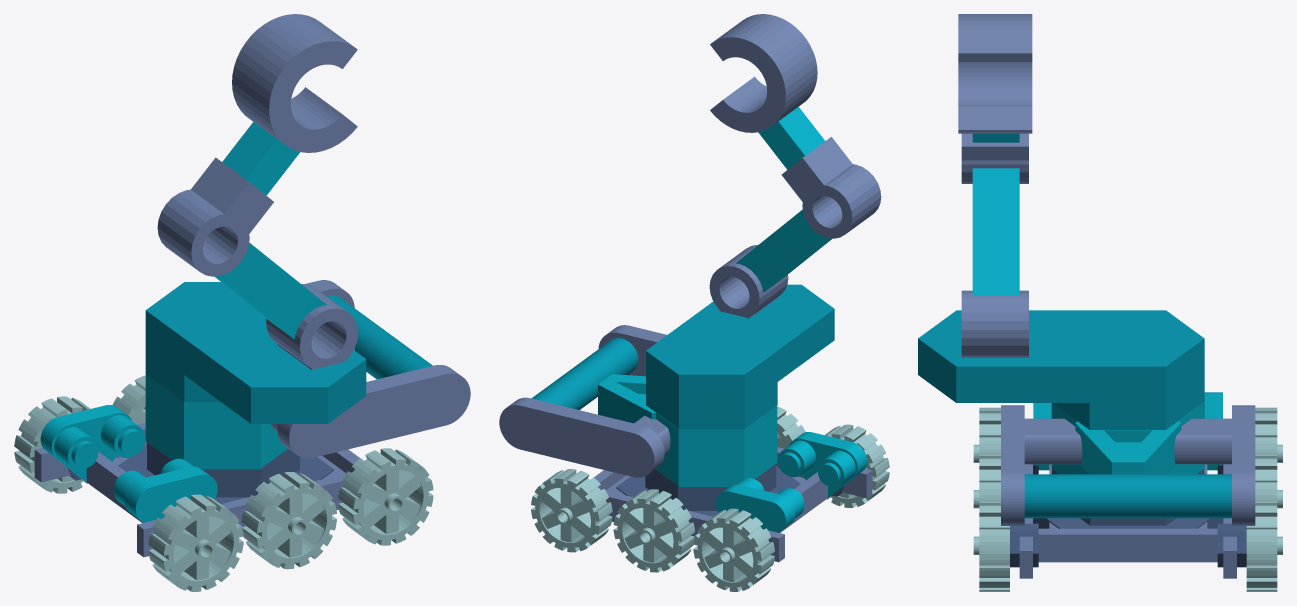
Rendered from bot-westcoast-blue-manipulator.glb.
The picture shows the model from 3 angles, left to right: view 1: azimuth 30°, elevation 25°; view 2: azimuth 150°, elevation 25°; view 3: azimuth 270°, elevation 25°; orthographic projection. The views are drawn at different scales.
Parts seen in each view (by area): view 1: Mesh_Mesh_head_geo.001_lambert2SG.001; view 2: Mesh_Mesh_head_geo.001_lambert2SG.001; view 3: Mesh_Mesh_head_geo.001_lambert2SG.001.
Boxes of the visible parts, box(x1,y1,x2,y2) form: Mesh_Mesh_head_geo.001_lambert2SG.001: box(14, 14, 470, 591); Mesh_Mesh_head_geo.001_lambert2SG.001: box(499, 14, 889, 591); Mesh_Mesh_head_geo.001_lambert2SG.001: box(918, 14, 1282, 591).
Size of the model in its own units: 0.0273 by 0.0433 by 0.0271.
